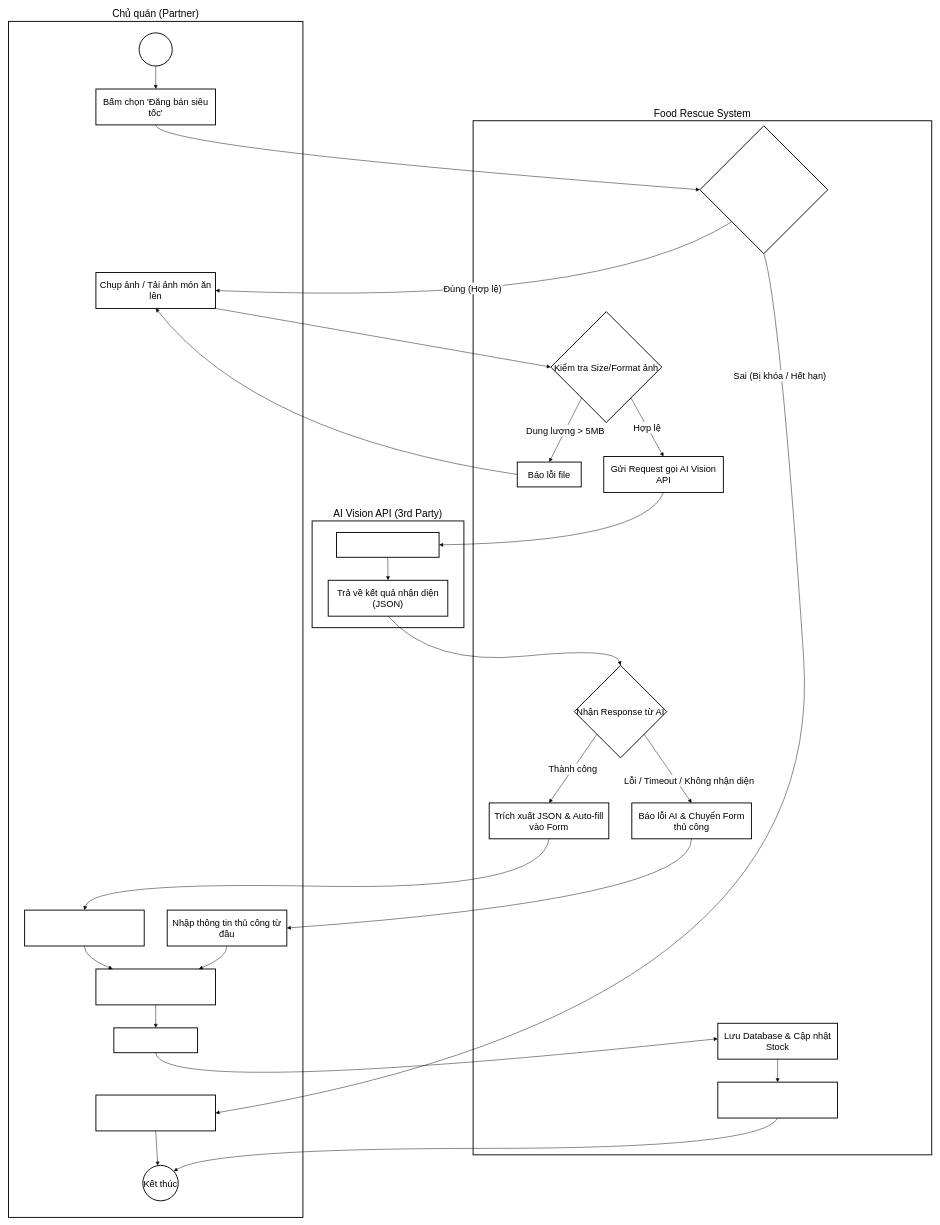
This 940x1225 diagram has some shape labels left out. The centre of each missing label's shape, as x and y in pixels:
"Bấm nút 'Publish'" belongs at point (155, 1040).
"Bắn Push Notification cho Hunter" belongs at point (777, 1099).
"Bắt đầu" belongs at point (155, 49).
"Kiểm tra & Sửa thông tin AI điền" belongs at point (84, 927).
"Kiểm tra Trạng thái Cửa hàng & VSATTP hợp lệ?" belongs at point (763, 189).
"Nhận cảnh báo: Tài khoản / Giấy phép không hợp lệ" belongs at point (155, 1112).
"Nhập Số lượng & Giờ Pick-up" belongs at point (155, 986).
"Xử lý Image Processing" belongs at point (387, 545).
